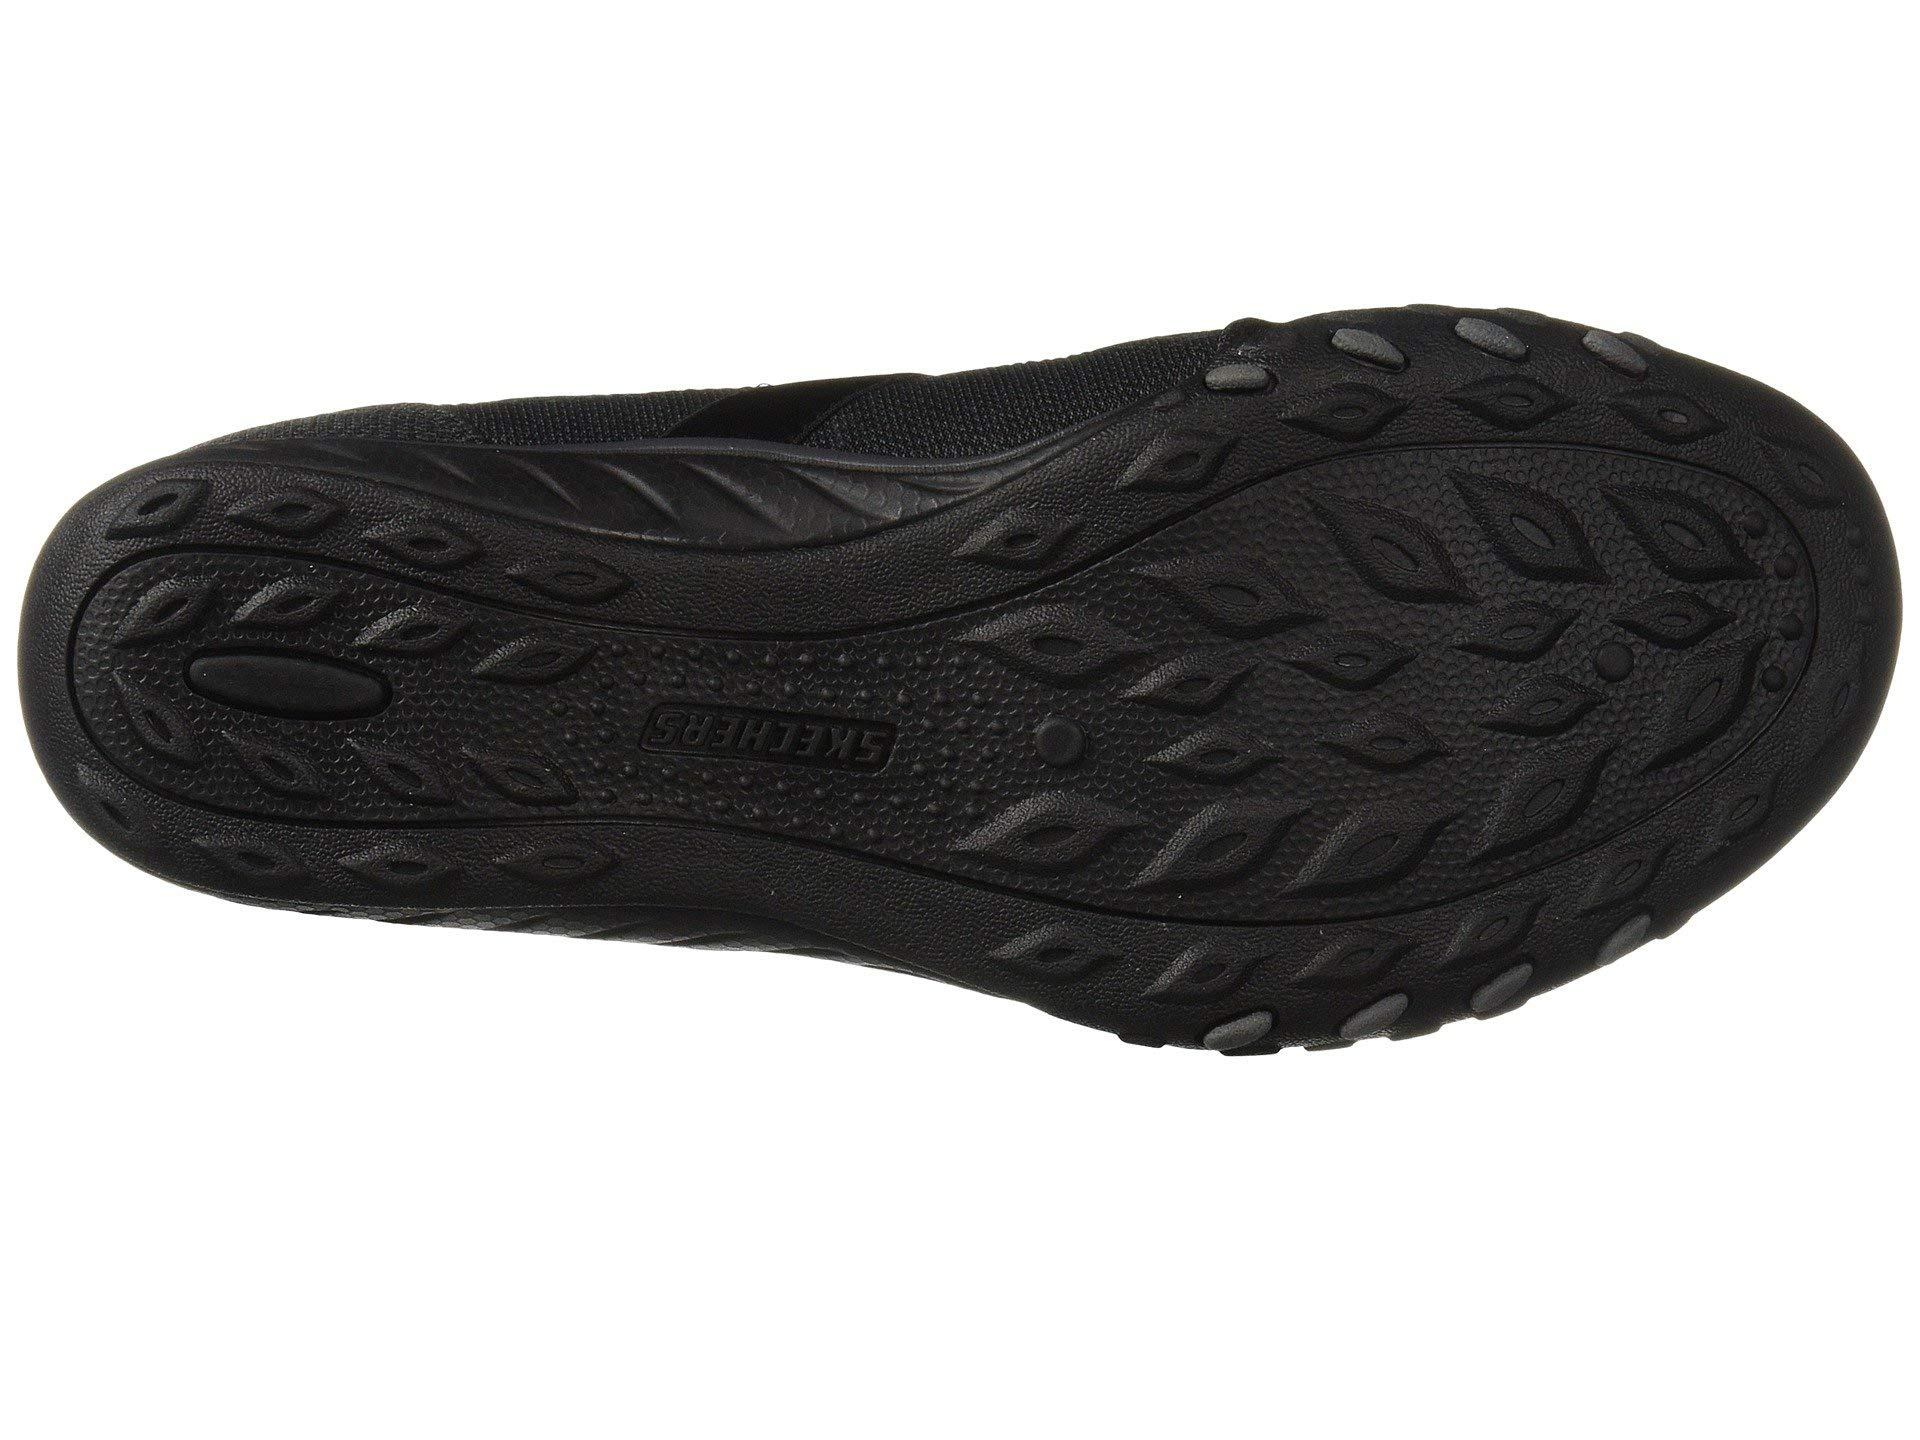circle: (1008, 445, 1578, 808), (612, 647, 927, 815)
line: (1008, 445, 1578, 808), (165, 486, 429, 785)
quad: (1008, 445, 1578, 808), (165, 486, 429, 785), (612, 647, 927, 815)
text: (612, 647, 927, 815)
